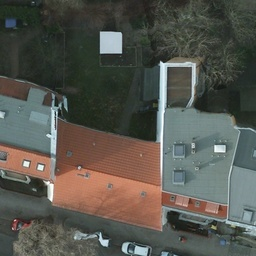car: (12, 219, 44, 240)
